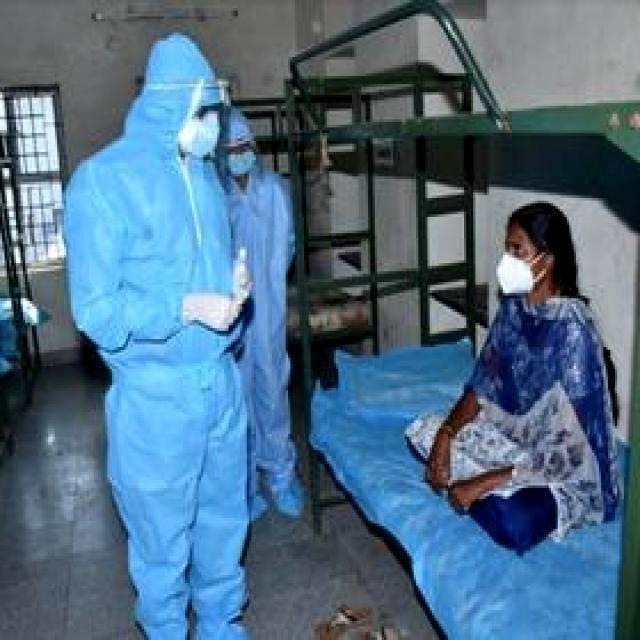apron: (186, 290, 237, 330), (220, 245, 252, 298)
mask: (500, 256, 532, 295), (189, 124, 219, 154), (232, 154, 254, 183)
